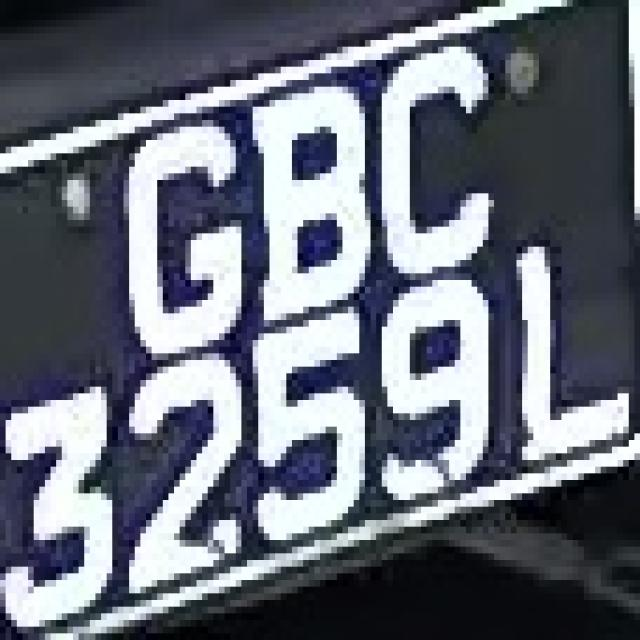2: (124, 360, 252, 593)
3: (0, 4, 1, 7)
5: (236, 306, 376, 546)
9: (365, 280, 511, 507)
B: (230, 87, 376, 333)
C: (371, 27, 505, 286)
G: (84, 126, 247, 346)
L: (499, 233, 640, 473)
